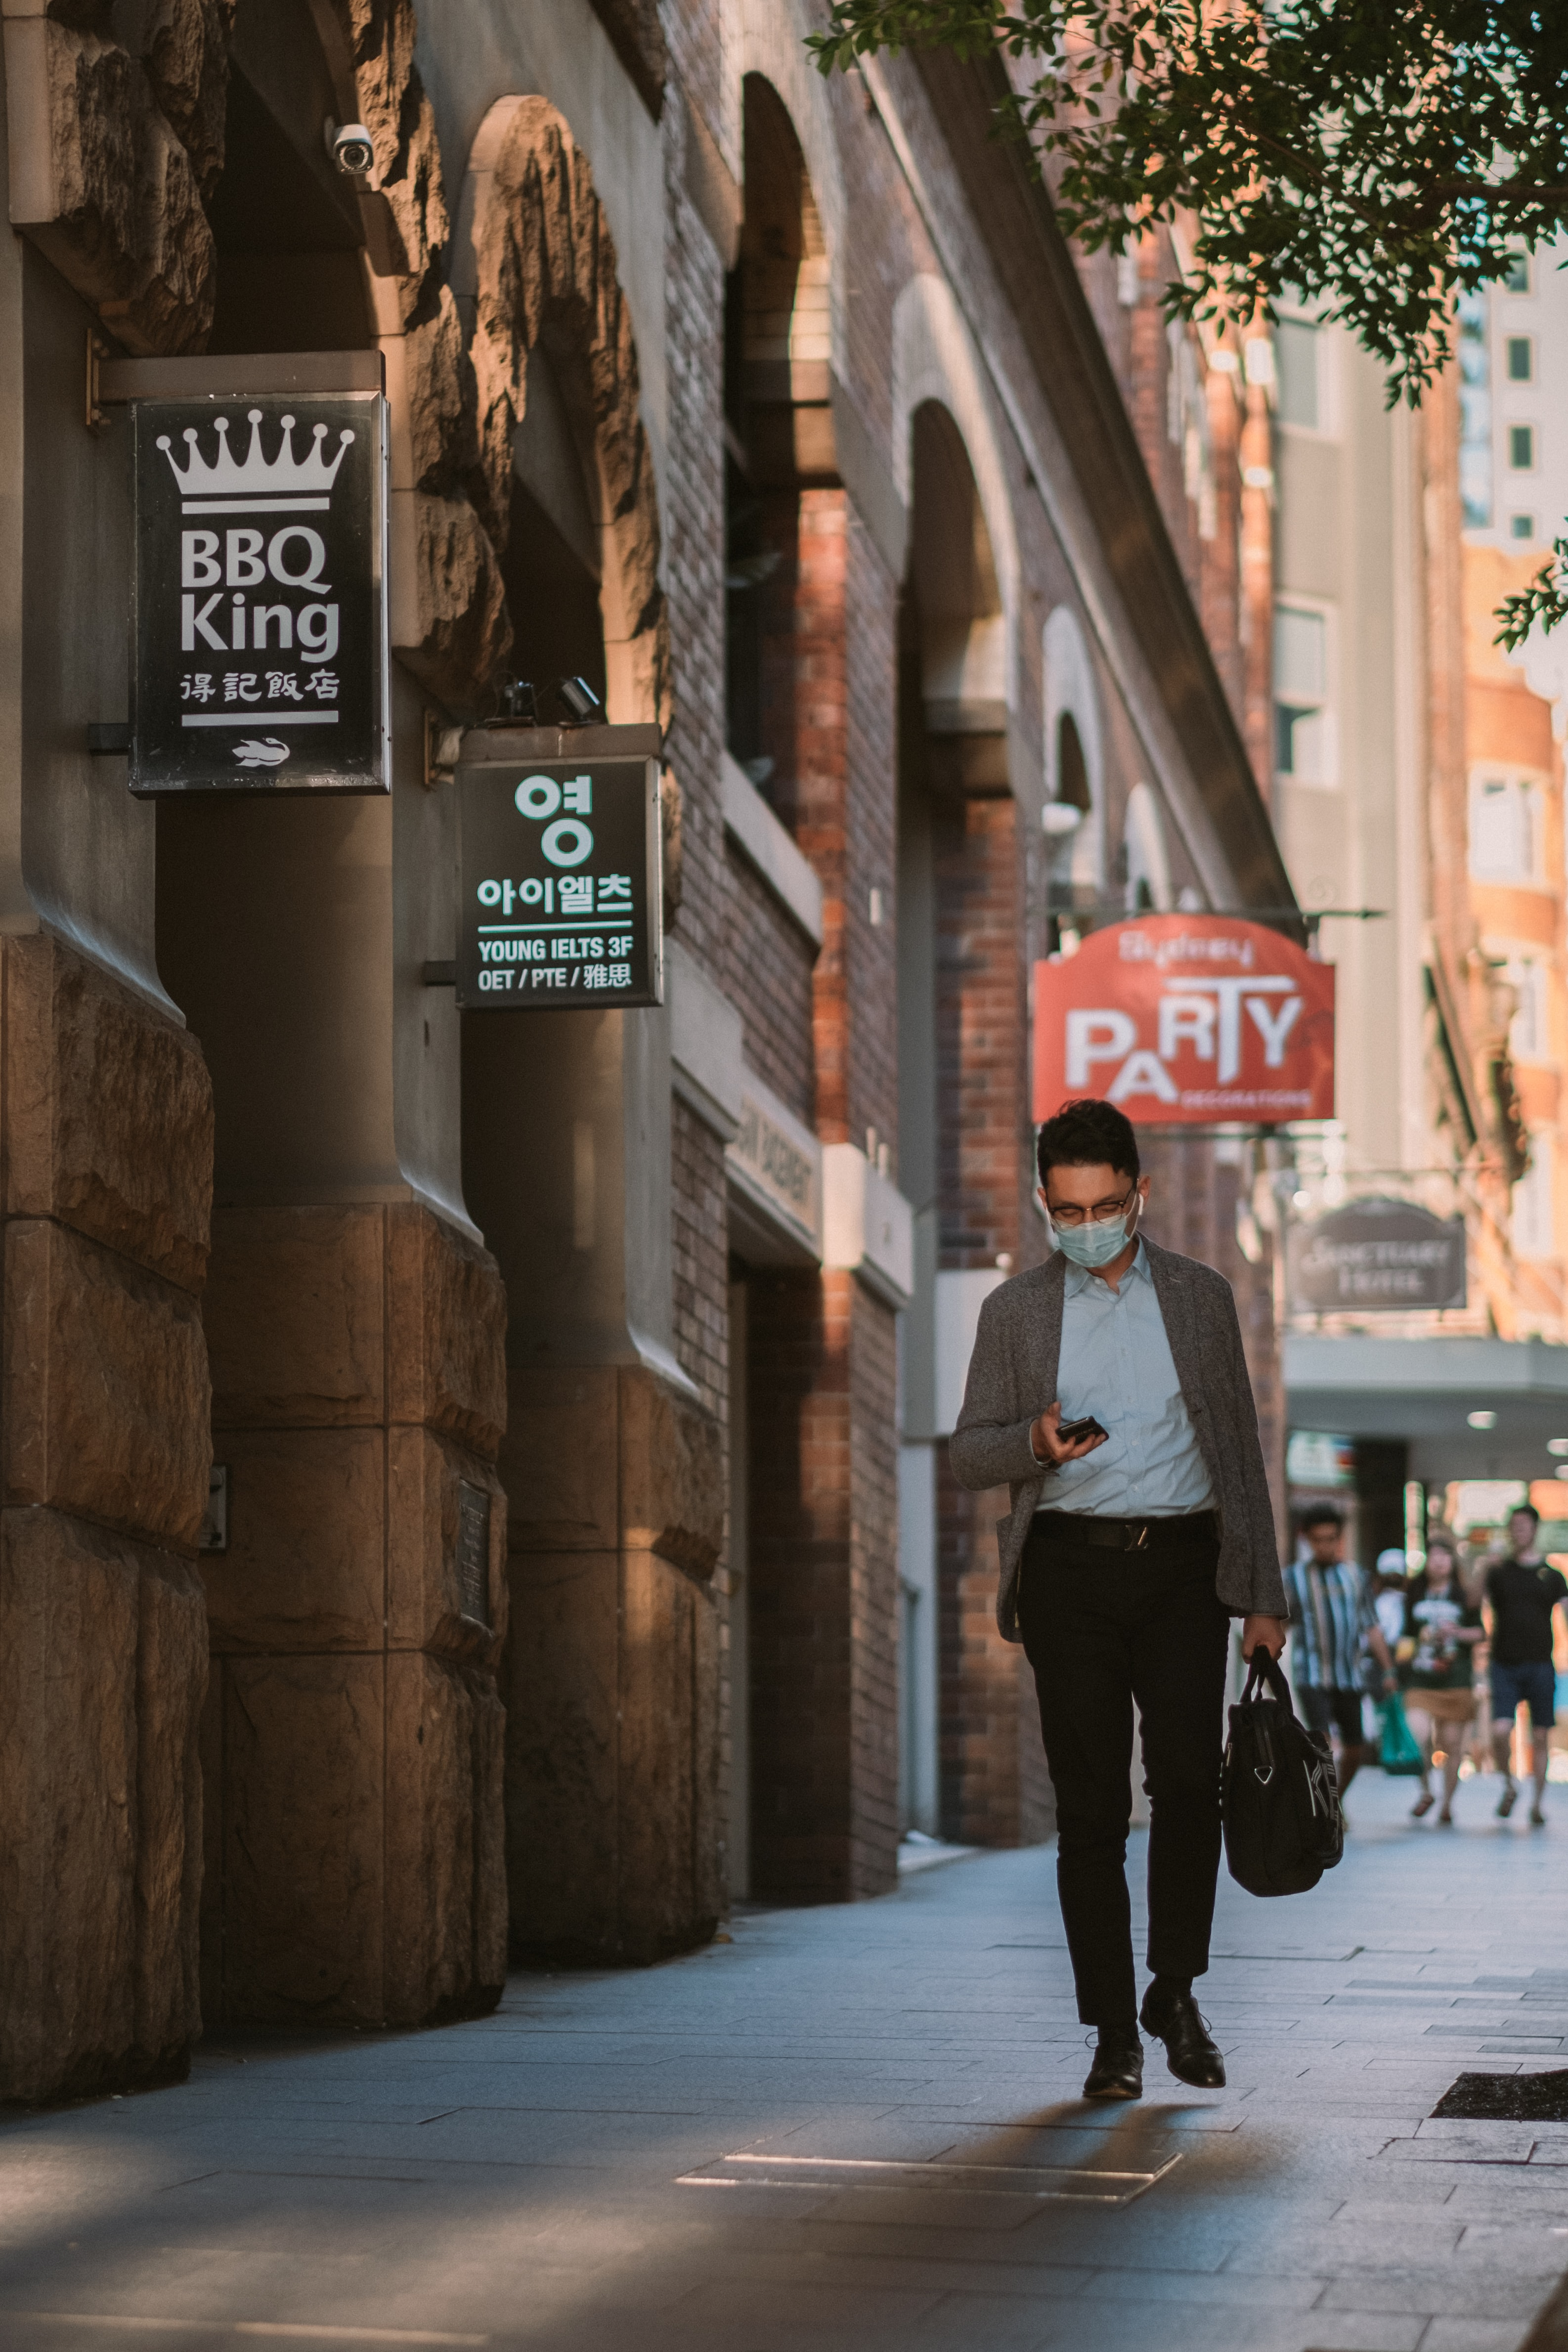mask: (1046, 1216, 1143, 1276)
person: (953, 1086, 1312, 2153)
